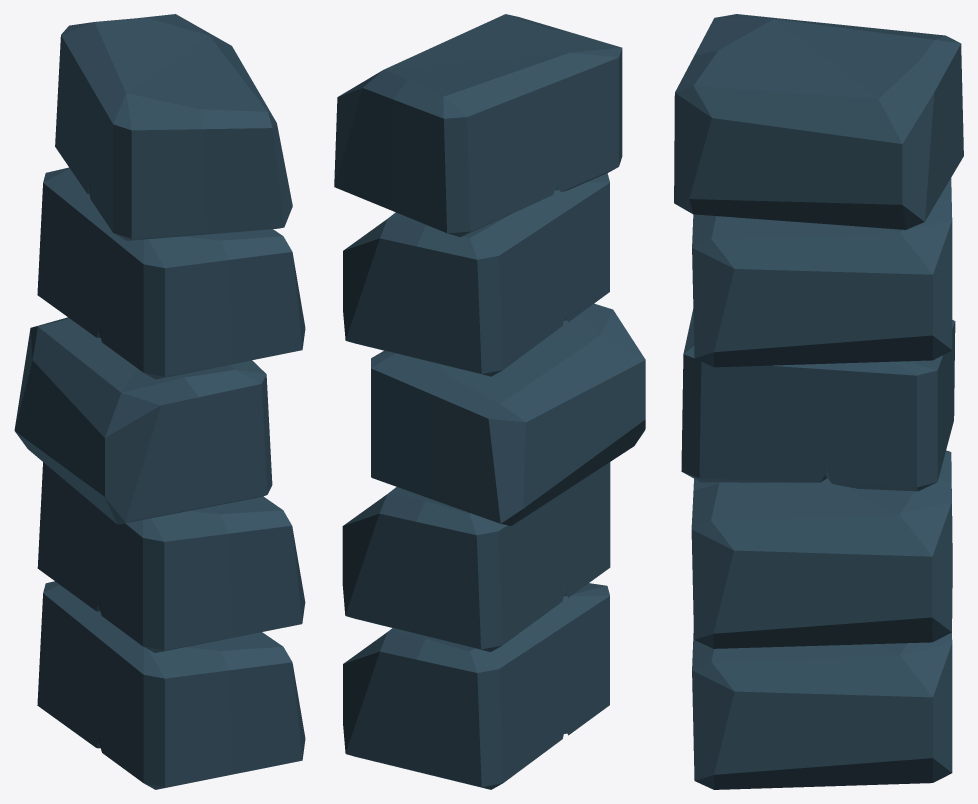
Rendered from pillow-rock-block.fbx.
3 views of the same model, side by side, from view 1: azimuth 30°, elevation 25°; view 2: azimuth 150°, elevation 25°; view 3: azimuth 270°, elevation 25° (orthographic). The views are drawn at different scales.
Visible parts, largest first — view 1: stone-brick04.008; view 2: stone-brick04.008; view 3: stone-brick04.008.
Boxes of the visible parts, x1,y1,x2,y2 form: stone-brick04.008: (14, 14, 305, 789); stone-brick04.008: (334, 14, 645, 789); stone-brick04.008: (674, 14, 963, 789).
Bounding box in the file's own units: 197 × 595 × 222.
